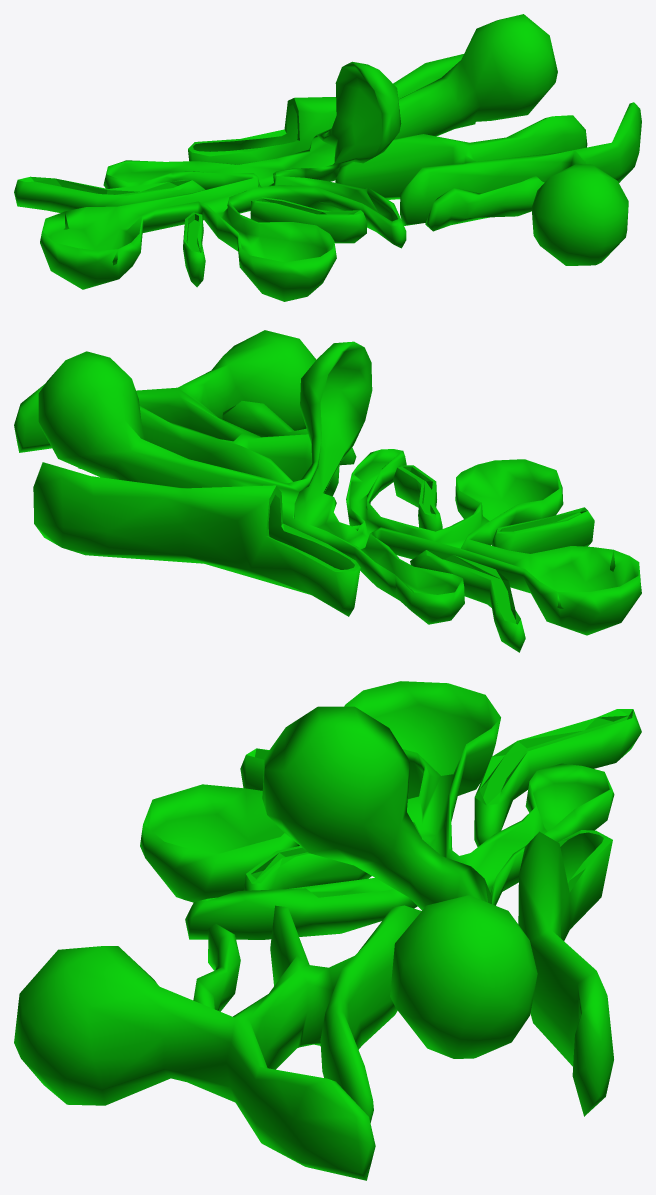
The model's file is golgi1.glb.
3 renders of one model, top to bottom at view 1: azimuth 30°, elevation 25°; view 2: azimuth 150°, elevation 25°; view 3: azimuth 270°, elevation 25°, orthographic. The views are drawn at different scales.
Visible parts, largest first — view 1: Golgi Apparatus.001; view 2: Golgi Apparatus.001; view 3: Golgi Apparatus.001.
Part boxes in pixels (x1,y1,x2,y2): Golgi Apparatus.001: (14, 14, 641, 301); Golgi Apparatus.001: (14, 330, 641, 652); Golgi Apparatus.001: (14, 681, 641, 1180).
Size of the model in its own units: 4.6 by 1.35 by 2.73.
